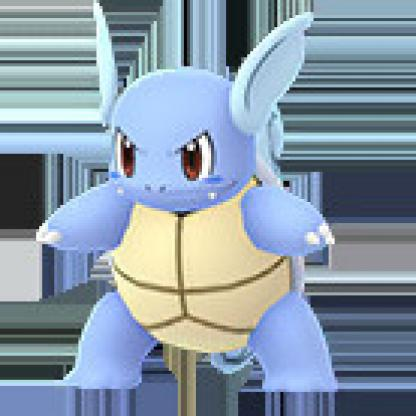Wartortle: (36, 1, 361, 403)
